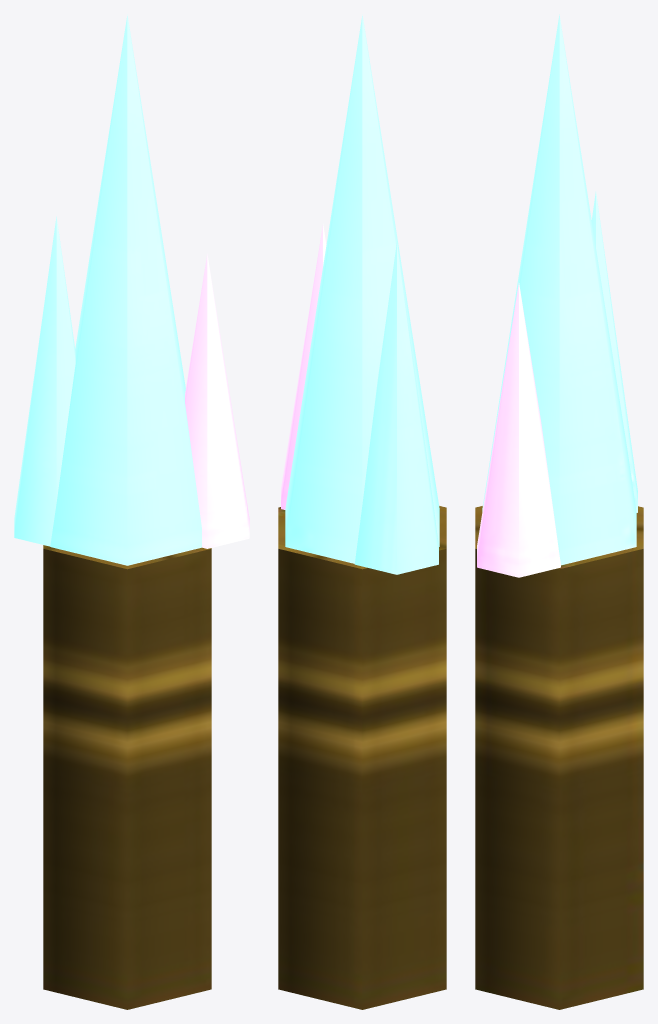
File: crystal_finial.glb
The picture shows the model from 3 angles, left to right: view 1: azimuth 30°, elevation 25°; view 2: azimuth 150°, elevation 25°; view 3: azimuth 270°, elevation 25°; orthographic projection.
Visible parts, largest first — view 1: props_0_0; view 2: props_0_0; view 3: props_0_0.
Boxes of the visible parts, x1,y1,x2,y2 form: props_0_0: (14, 14, 249, 1009); props_0_0: (278, 14, 446, 1009); props_0_0: (475, 14, 643, 1009).
Size of the model in its own units: 0.56 by 2.6 by 0.4157.
Materials: 2 (2 with a texture image).
